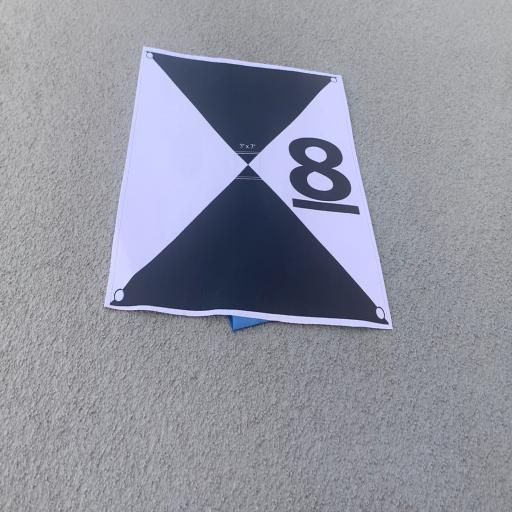target8: (104, 47, 393, 331)
